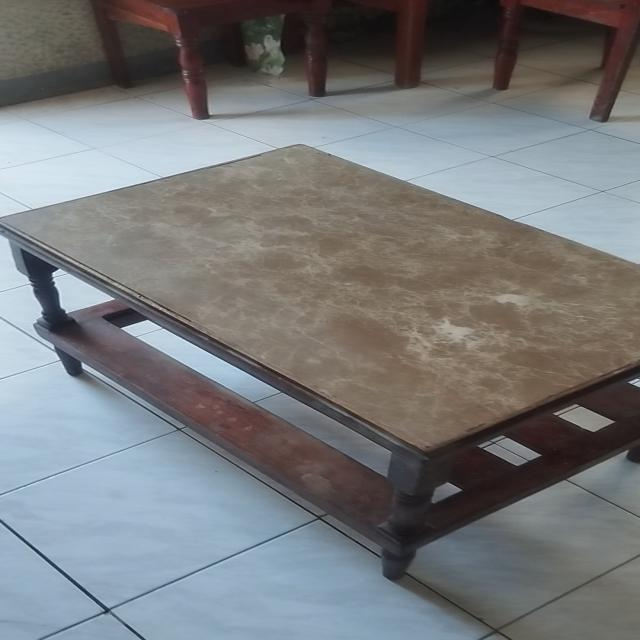table: (0, 137, 640, 576)
